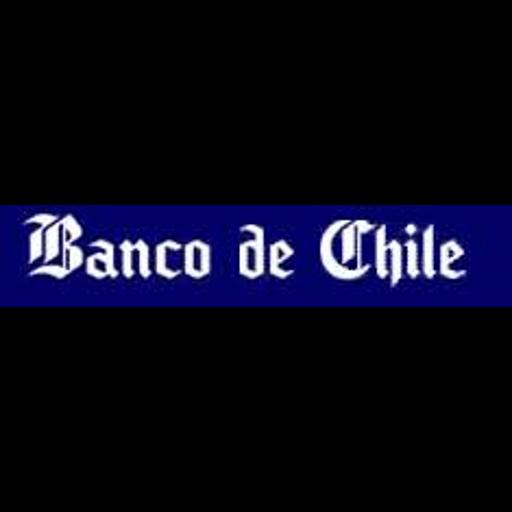Banco de Chile: (0, 205, 512, 307)
